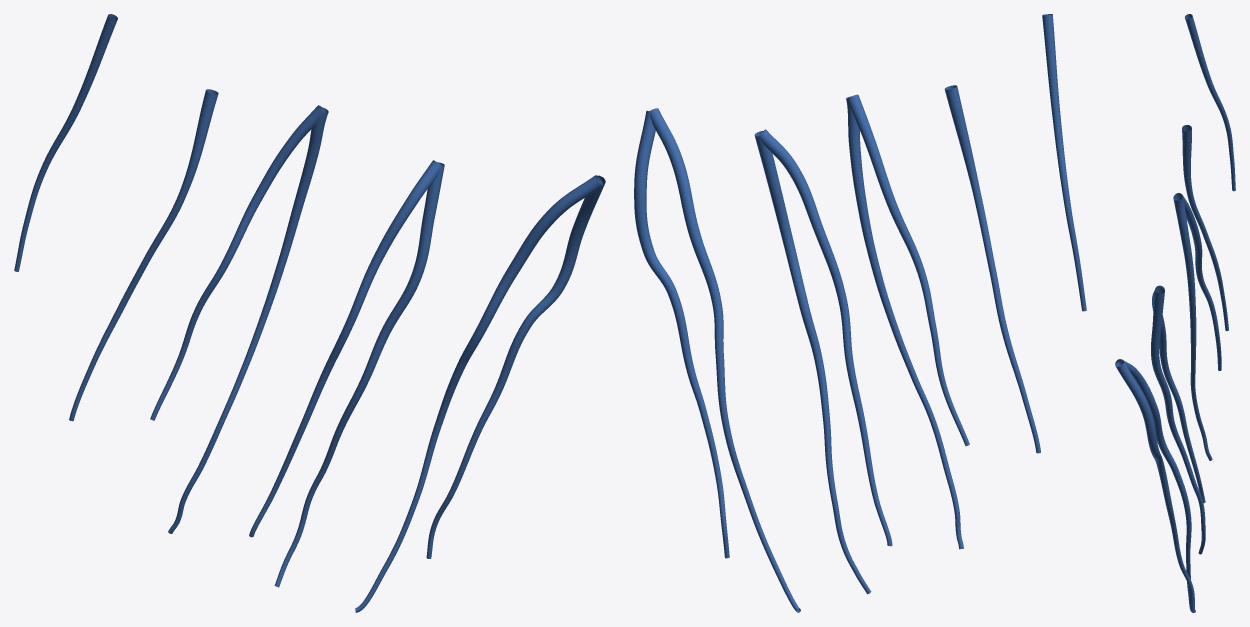
The picture shows the model from 3 angles, left to right: view 1: azimuth 30°, elevation 25°; view 2: azimuth 150°, elevation 25°; view 3: azimuth 270°, elevation 25°; orthographic projection. The views are drawn at different scales.
Parts seen in each view (by area): view 1: 右侧趾背静脉; view 2: 右侧趾背静脉; view 3: 右侧趾背静脉.
Boxes of the visible parts, x1=… form: 右侧趾背静脉: x1=14, y1=14, x2=605, y2=612; 右侧趾背静脉: x1=634, y1=14, x2=1086, y2=612; 右侧趾背静脉: x1=1115, y1=14, x2=1235, y2=612.
Size of the model in its own units: 0.0928 by 0.1135 by 0.0246.
